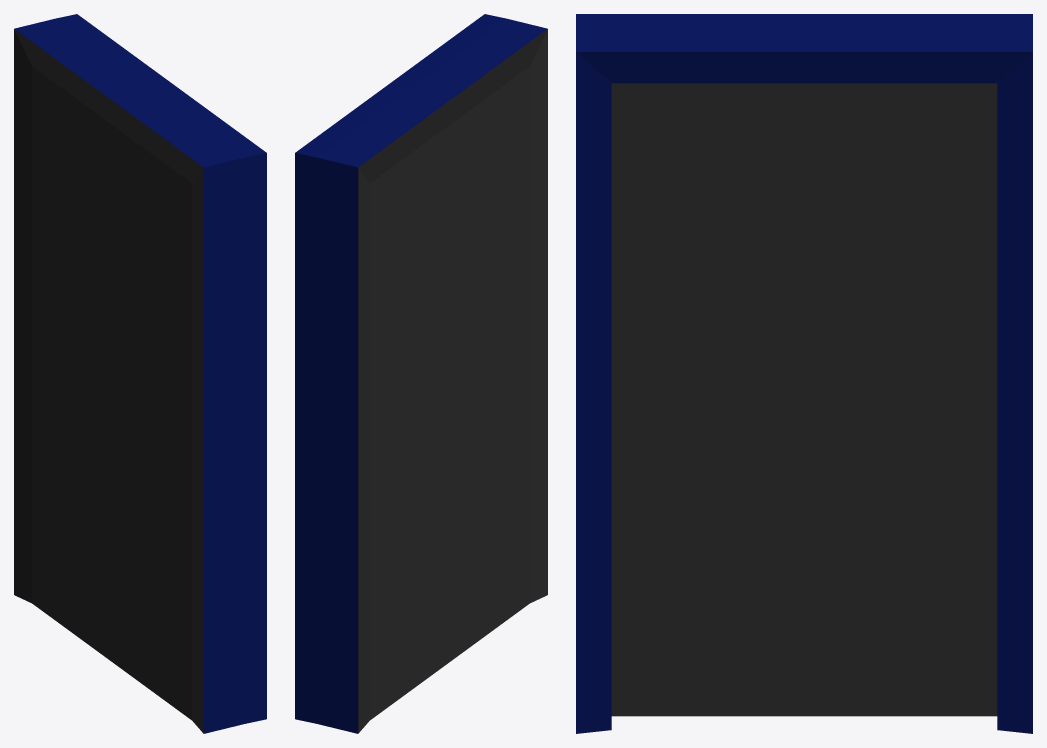
Rendered from WarehouseDoor.fbx.
The picture shows the model from 3 angles, left to right: view 1: azimuth 30°, elevation 25°; view 2: azimuth 150°, elevation 25°; view 3: azimuth 270°, elevation 25°; orthographic projection. The views are drawn at different scales.
Parts seen in each view (by area): view 1: Cube.001; view 2: Cube.001; view 3: Cube.001.
Part boxes in pixels (x1,y1,x2,y2): Cube.001: (14, 14, 266, 733); Cube.001: (295, 14, 547, 733); Cube.001: (576, 14, 1032, 733).
Size of the model in its own units: 70.59 by 606 by 367.
